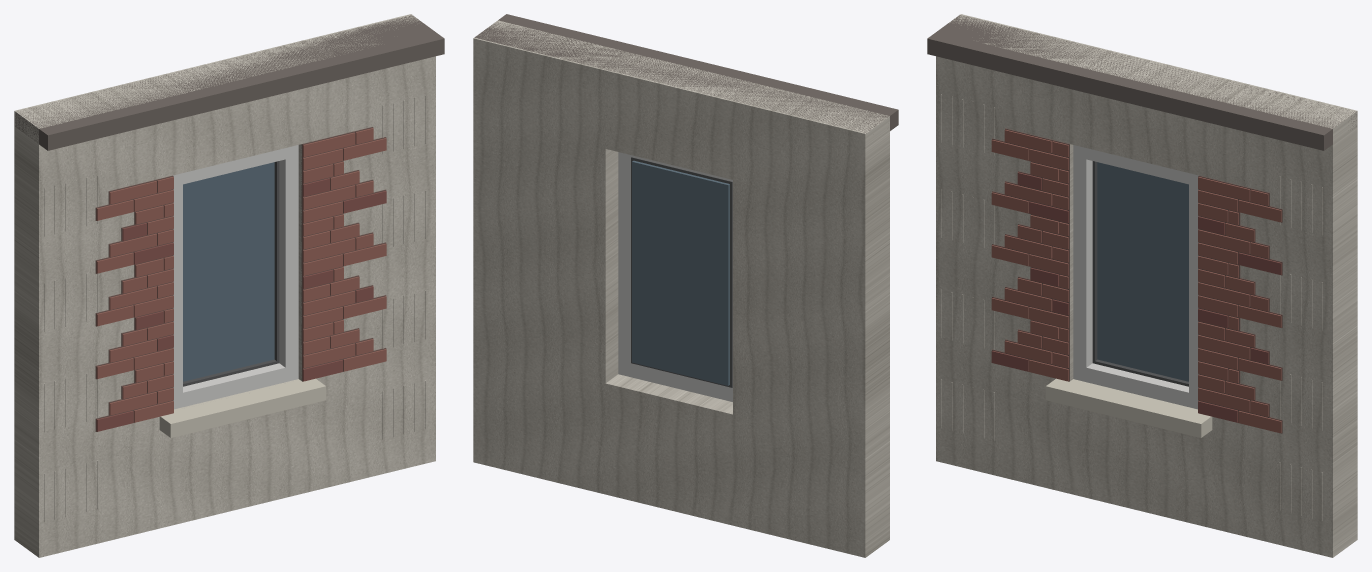
File: wuyi-234-stepped-brick-jambs-near.glb
3 views of the same model, side by side, from view 1: azimuth 30°, elevation 25°; view 2: azimuth 150°, elevation 25°; view 3: azimuth 330°, elevation 25° (orthographic).
Parts seen in each view (by area): view 1: 武夷路234号住宅竖梳粉墙与阶梯砖窗套; view 2: 武夷路234号住宅竖梳粉墙与阶梯砖窗套; view 3: 武夷路234号住宅竖梳粉墙与阶梯砖窗套.
Boxes of the visible parts, left/top/right/bottom form: 武夷路234号住宅竖梳粉墙与阶梯砖窗套: left=14, top=14, right=444, bottom=557; 武夷路234号住宅竖梳粉墙与阶梯砖窗套: left=473, top=14, right=898, bottom=557; 武夷路234号住宅竖梳粉墙与阶梯砖窗套: left=927, top=14, right=1357, bottom=557.
Bounding box in the file's own units: 2.4 × 2.48 × 0.375.
9 materials, 1 textured.
